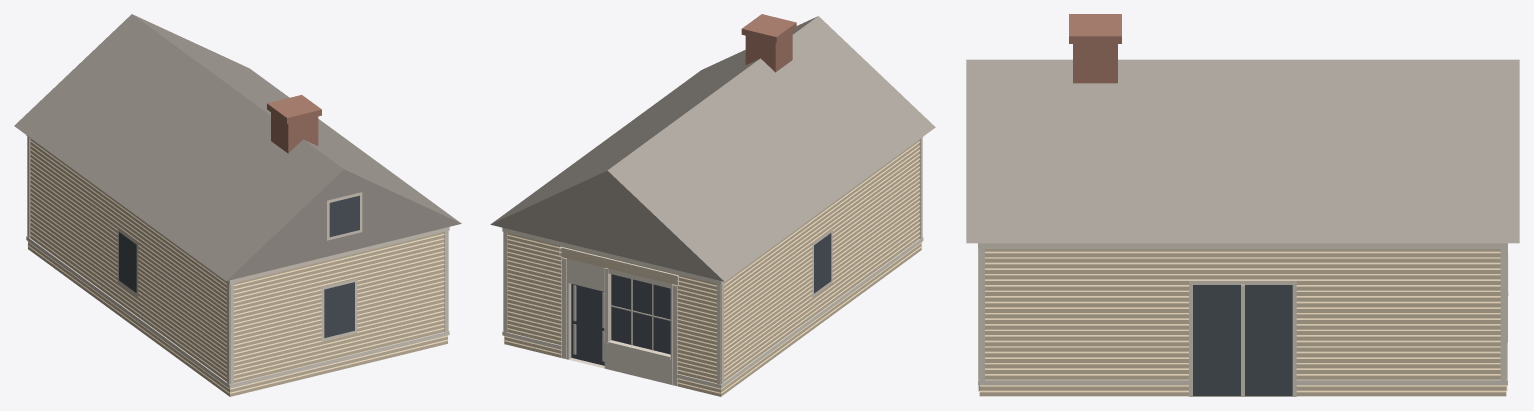
Rendered from recon_1835_south_c2_007__inferred_1835.glb.
3 views of the same model, side by side, from view 1: azimuth 30°, elevation 25°; view 2: azimuth 150°, elevation 25°; view 3: azimuth 270°, elevation 25° (orthographic). The views are drawn at different scales.
Parts seen in each view (by area): view 1: recon_1835_south_c2_007__inferred_1835; view 2: recon_1835_south_c2_007__inferred_1835; view 3: recon_1835_south_c2_007__inferred_1835.
Boxes of the visible parts, x1=… form: recon_1835_south_c2_007__inferred_1835: x1=14, y1=14, x2=461, y2=396; recon_1835_south_c2_007__inferred_1835: x1=490, y1=14, x2=935, y2=396; recon_1835_south_c2_007__inferred_1835: x1=966, y1=14, x2=1519, y2=396.
Bounding box in the file's own units: 6.59 × 6.18 × 10.31.
